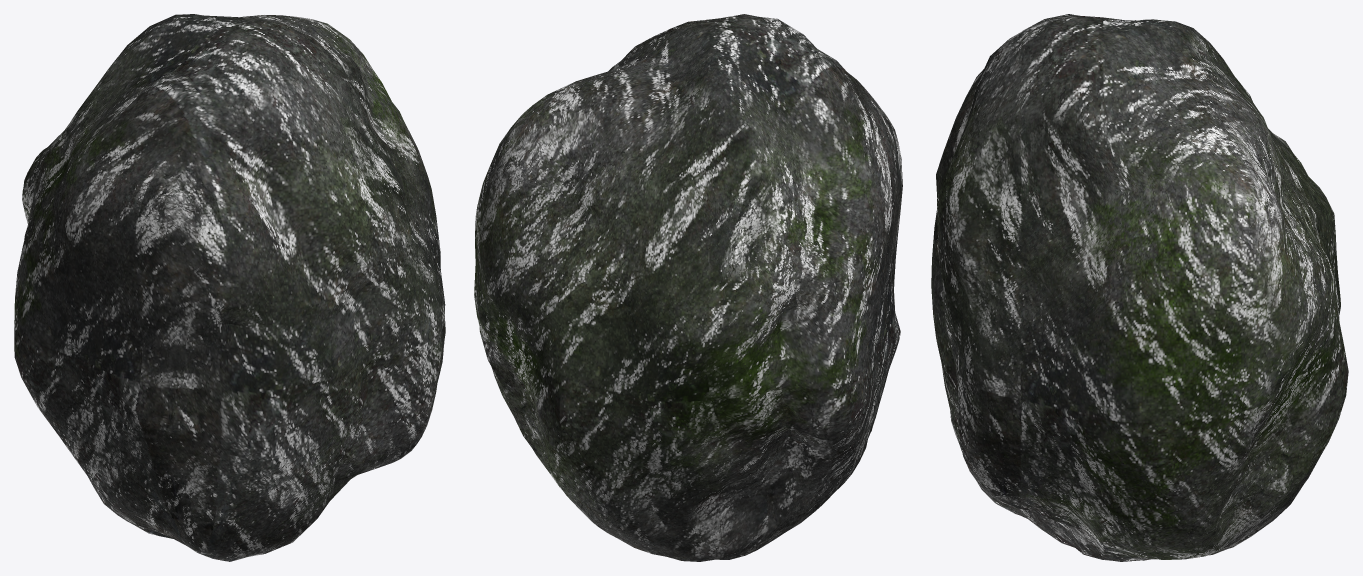
The model's file is rock_4.fbx.
3 renders of one model, left to right at view 1: azimuth 30°, elevation 25°; view 2: azimuth 150°, elevation 25°; view 3: azimuth 270°, elevation 25°, orthographic. The views are drawn at different scales.
Visible parts, largest first — view 1: PolySphere; view 2: PolySphere; view 3: PolySphere.
Boxes of the visible parts, x1,y1,x2,y2 form: PolySphere: (14, 14, 445, 561); PolySphere: (474, 14, 902, 561); PolySphere: (931, 14, 1348, 561).
Bounding box in the file's own units: 1.53 × 1.94 × 1.4.
